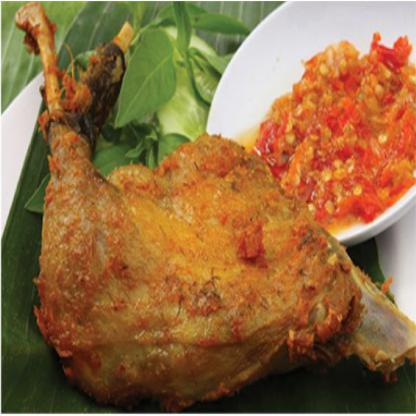ayam_goreng: (4, 0, 412, 400)
